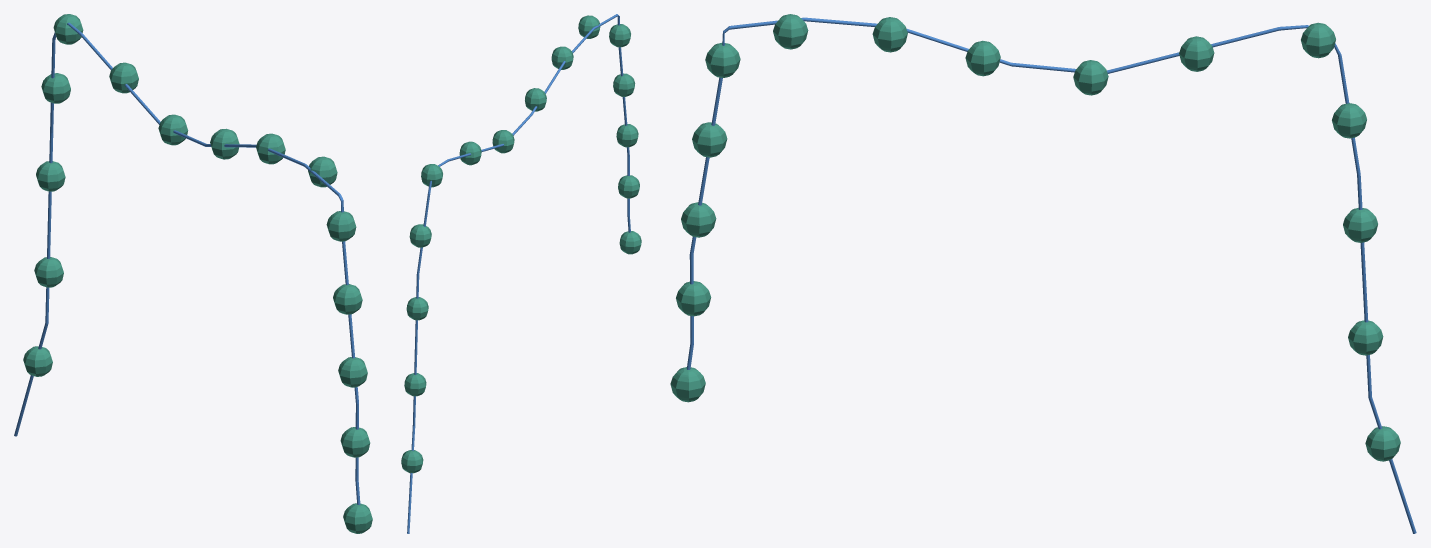
File: Childrens_Room_Lights.fbx
3 views of the same model, side by side, from view 1: azimuth 30°, elevation 25°; view 2: azimuth 150°, elevation 25°; view 3: azimuth 270°, elevation 25° (orthographic). The views are drawn at different scales.
Visible parts, largest first — view 1: Childrens_Room_Lights; view 2: Childrens_Room_Lights; view 3: Childrens_Room_Lights.
Boxes of the visible parts, <box> form: Childrens_Room_Lights: <box>14,14,372,533</box>; Childrens_Room_Lights: <box>401,14,641,533</box>; Childrens_Room_Lights: <box>670,14,1416,533</box>.
Size of the model in its own units: 34.35 by 287 by 361.
